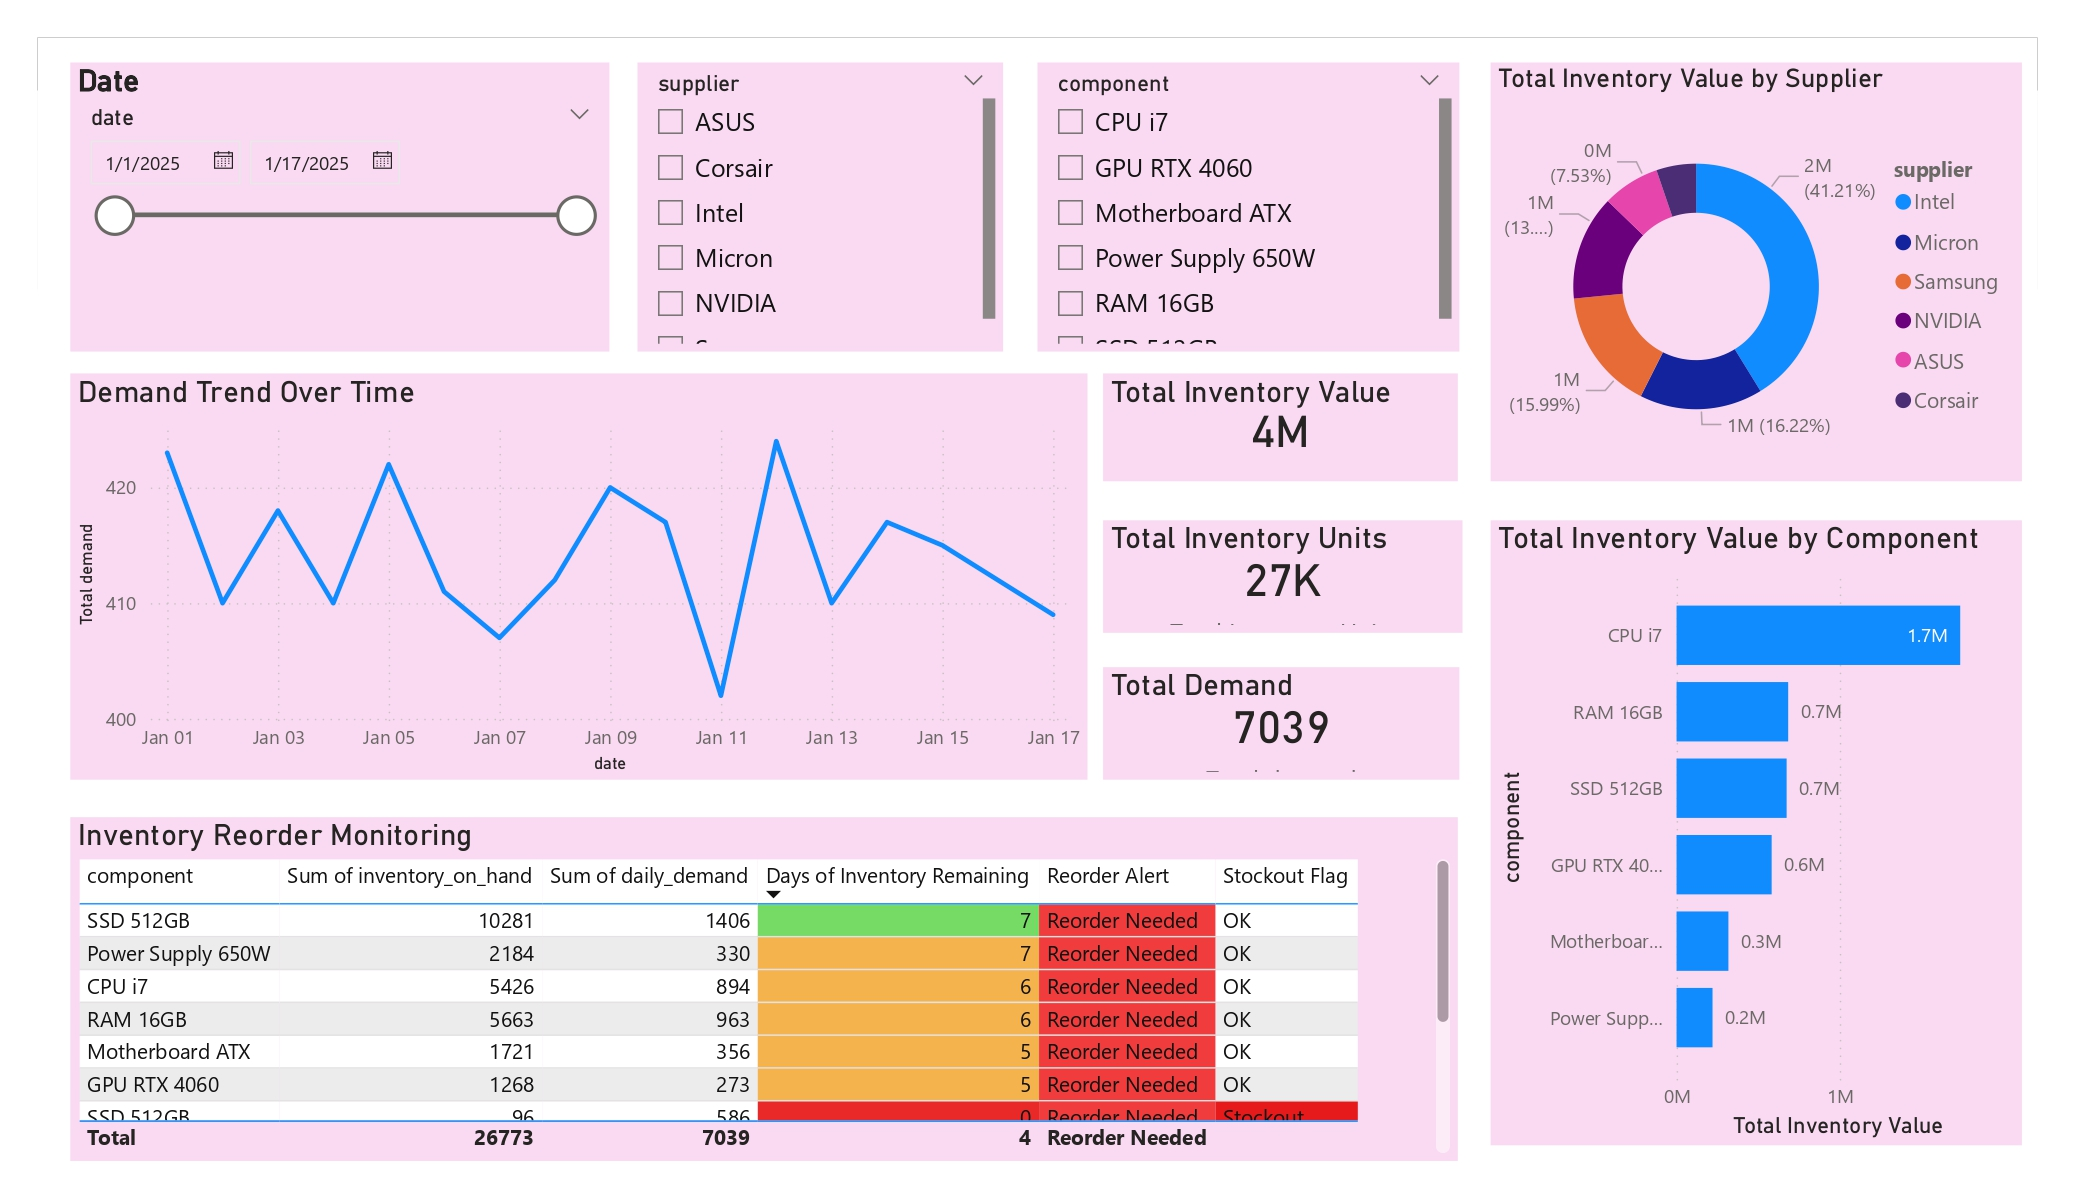

Layout of this report page (visuals, bound fields, positions):
{"tool":"powerbi","page":{"name":"Page 1","canvas":[1280,720],"ordinal":0},"visuals":[{"type":"card","title":"Total Inventory Value","fields":{"Values":["inventory_data.Total Inventory Value"]},"box":[682.1,214.9,226.9,68.7],"z":0},{"type":"card","title":"Total Inventory Units","fields":{"Values":["inventory_data.Total Inventory Units"]},"box":[682.1,309,229.9,71.6],"z":1000},{"type":"card","title":"Total Demand","fields":{"Values":["inventory_data.Total demand"]},"box":[682.1,403,228.4,71.6],"z":2000},{"type":"clusteredBarChart","title":"Total Inventory Value by Component","fields":{"Category":["inventory_data.component"],"Y":["inventory_data.Total Inventory Value"]},"box":[929.9,309,340.3,400],"z":3000},{"type":"lineChart","title":"Demand Trend Over Time","fields":{"Y":["inventory_data.Total demand"],"Category":["inventory_data.date"]},"box":[20.9,214.9,650.7,259.7],"z":4000},{"type":"donutChart","title":"Total Inventory Value by Supplier","fields":{"Category":["inventory_data.supplier"],"Y":["inventory_data.Total Inventory Value"]},"box":[929.9,16.4,340.3,267.2],"z":5000},{"type":"tableEx","title":"Inventory Reorder Monitoring","fields":{"Values":["inventory_data.component","Sum(inventory_data.inventory_on_hand)","Sum(inventory_data.daily_demand)","inventory_data.Days of Inventory Remaining","inventory_data.Reorder Alert","inventory_data.Stockout Flag"]},"box":[20.9,498.5,888.1,220.9],"z":6000},{"type":"slicer","fields":{"Values":["inventory_data.component"]},"box":[640.3,16.4,270.1,185.1],"z":7000},{"type":"slicer","fields":{"Values":["inventory_data.supplier"]},"box":[383.6,16.4,234.3,185.1],"z":8000},{"type":"slicer","title":"Date","fields":{"Values":["inventory_data.date"]},"box":[20.9,16.4,344.8,185.1],"z":9000}]}

Visuals, with their boxes on the page's 1280x720 design canvas (x1, y1, x2, y2). These are canvas units, not pixel positions in the 2075x1200 screenshot, which may show the page scaled, cropped or inside an application window:
"Total Inventory Value" card: 682,215,909,284
"Total Inventory Units" card: 682,309,912,381
"Total Demand" card: 682,403,910,475
"Total Inventory Value by Component" clusteredBarChart: 930,309,1270,709
"Demand Trend Over Time" lineChart: 21,215,672,475
"Total Inventory Value by Supplier" donutChart: 930,16,1270,284
"Inventory Reorder Monitoring" tableEx: 21,498,909,719
slicer - inventory_data.component: 640,16,910,202
slicer - inventory_data.supplier: 384,16,618,202
"Date" slicer: 21,16,366,202
